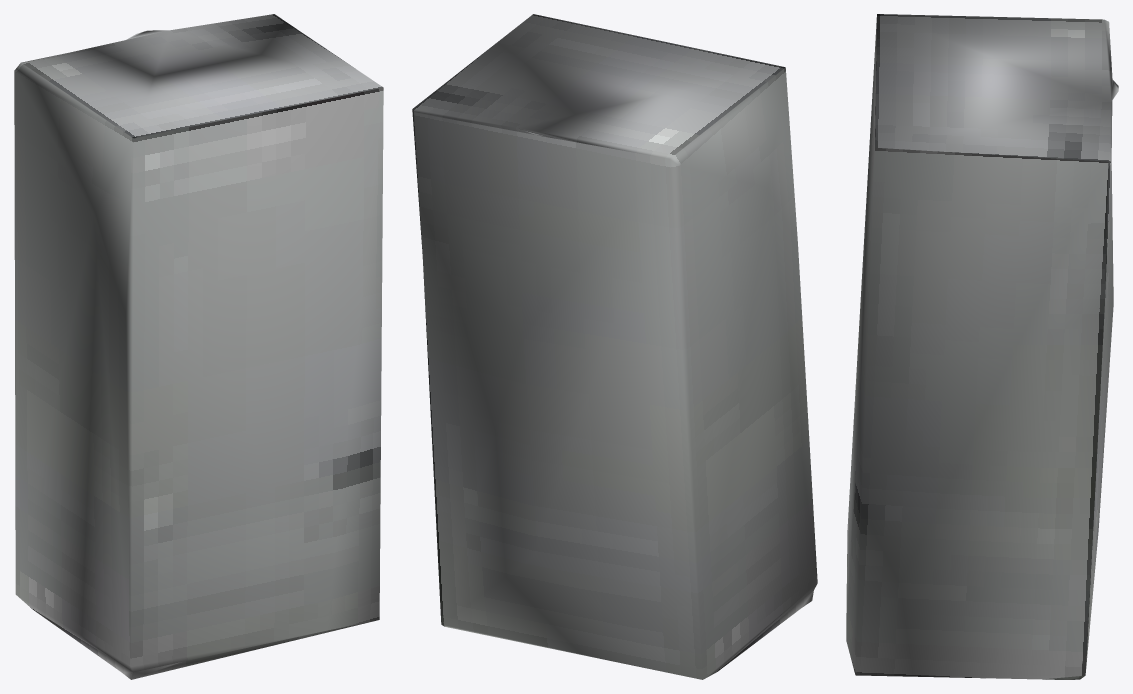
File: Perricone_MD_Cold_Plasma_Body-low.glb
The picture shows the model from 3 angles, left to right: view 1: azimuth 30°, elevation 25°; view 2: azimuth 150°, elevation 25°; view 3: azimuth 270°, elevation 25°; orthographic projection. The views are drawn at different scales.
Visible parts, largest first — view 1: Perricone_MD_Cold_Plasma_Body; view 2: Perricone_MD_Cold_Plasma_Body; view 3: Perricone_MD_Cold_Plasma_Body.
Part boxes in pixels (x1,y1,x2,y2): Perricone_MD_Cold_Plasma_Body: [14, 14, 383, 679]; Perricone_MD_Cold_Plasma_Body: [412, 14, 817, 679]; Perricone_MD_Cold_Plasma_Body: [846, 14, 1118, 679].
Bounding box in the file's own units: 0.0835 × 0.157 × 0.0708.
Materials: 1 (1 with a texture image).
